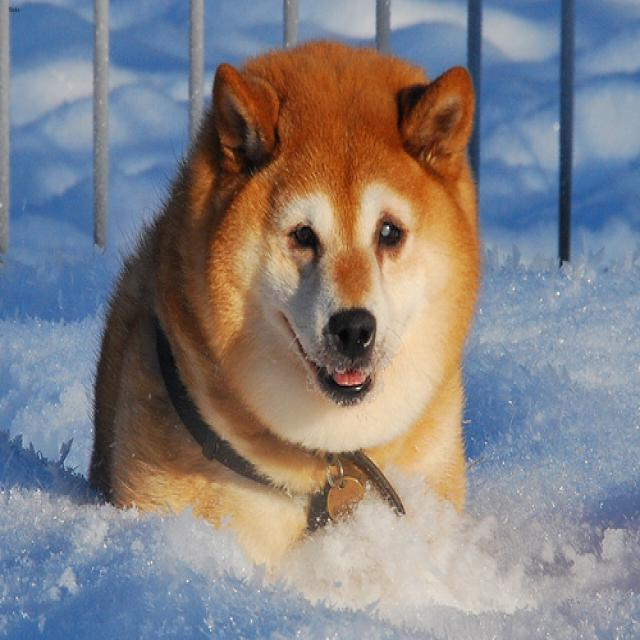dog-shiba_inu: (76, 38, 492, 579)
